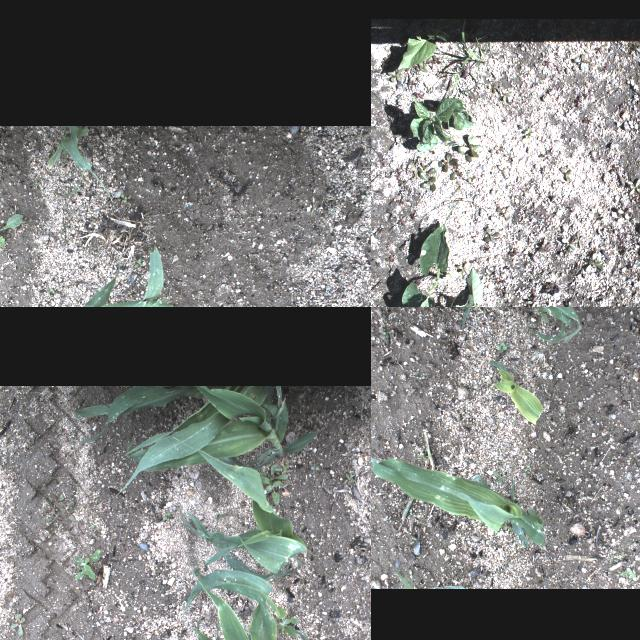crop: (69, 386, 323, 496), (371, 435, 547, 553), (172, 436, 306, 582), (129, 566, 361, 640), (371, 307, 582, 358), (46, 246, 182, 307), (46, 126, 110, 198), (399, 222, 448, 307), (491, 357, 543, 427), (408, 96, 472, 152), (409, 268, 482, 307), (396, 26, 450, 68), (396, 568, 414, 588), (427, 583, 467, 589)
weed: (456, 29, 488, 70), (342, 125, 371, 168), (452, 136, 486, 162), (272, 604, 298, 638), (74, 548, 100, 580), (0, 213, 24, 247), (381, 58, 404, 88), (258, 476, 280, 504), (416, 162, 436, 192), (616, 563, 638, 585), (581, 252, 605, 272), (437, 150, 457, 173), (442, 70, 463, 90), (491, 203, 511, 223), (561, 230, 583, 248), (44, 495, 62, 515), (9, 614, 25, 636), (572, 51, 590, 70), (623, 177, 640, 197), (400, 502, 414, 526), (614, 207, 634, 223), (482, 228, 502, 244), (410, 58, 430, 74), (264, 464, 278, 486), (605, 550, 627, 564), (574, 90, 586, 114), (492, 338, 508, 356), (527, 290, 543, 307), (265, 474, 287, 486), (538, 240, 554, 256), (454, 259, 470, 275), (491, 472, 507, 488), (558, 167, 572, 185), (407, 88, 427, 100), (446, 172, 464, 185), (390, 168, 406, 182), (60, 508, 76, 522), (522, 126, 534, 144), (507, 249, 525, 261), (44, 514, 62, 526), (490, 281, 504, 295), (394, 214, 408, 228), (629, 407, 640, 424), (627, 42, 640, 56), (416, 372, 428, 386), (378, 328, 390, 342), (489, 146, 505, 156), (273, 466, 289, 476), (382, 253, 393, 265), (497, 166, 507, 178), (342, 474, 354, 484), (519, 463, 531, 473), (161, 510, 171, 520), (119, 192, 127, 204), (148, 242, 156, 254), (256, 471, 264, 483), (40, 508, 46, 522), (90, 523, 100, 531), (134, 256, 140, 268), (64, 499, 74, 506), (32, 180, 40, 186), (46, 288, 54, 294), (371, 502, 375, 513), (310, 466, 318, 470)
